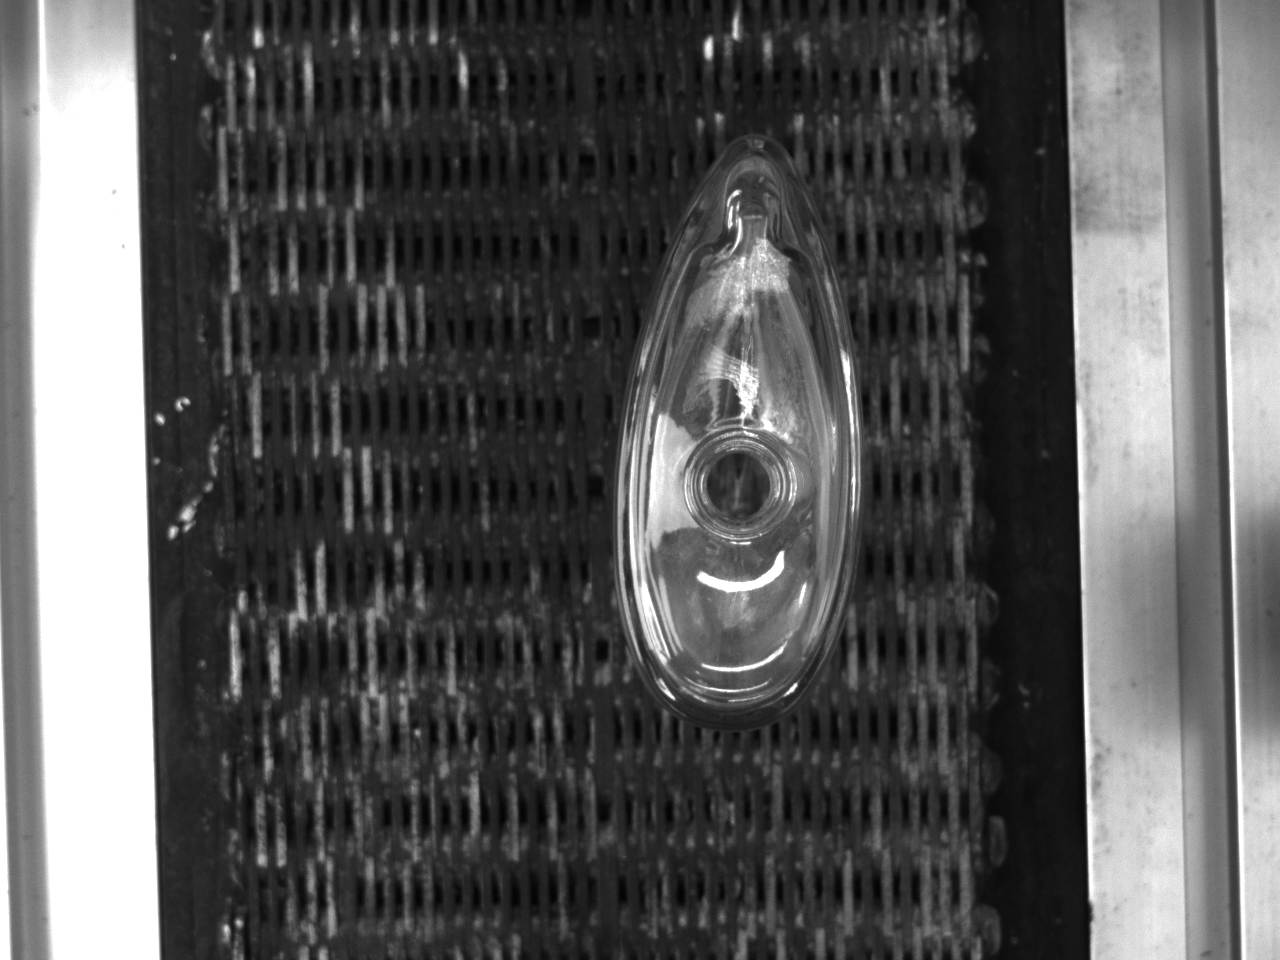bottleneck: (685, 429, 797, 538)
